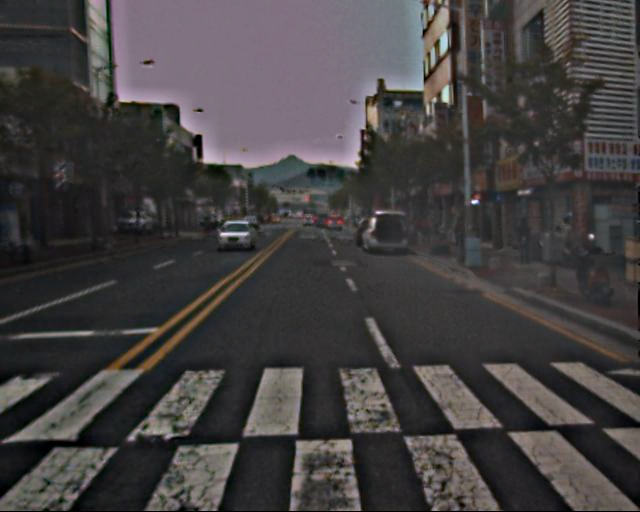person: (556, 216, 578, 269), (515, 218, 533, 263), (452, 215, 468, 253)
